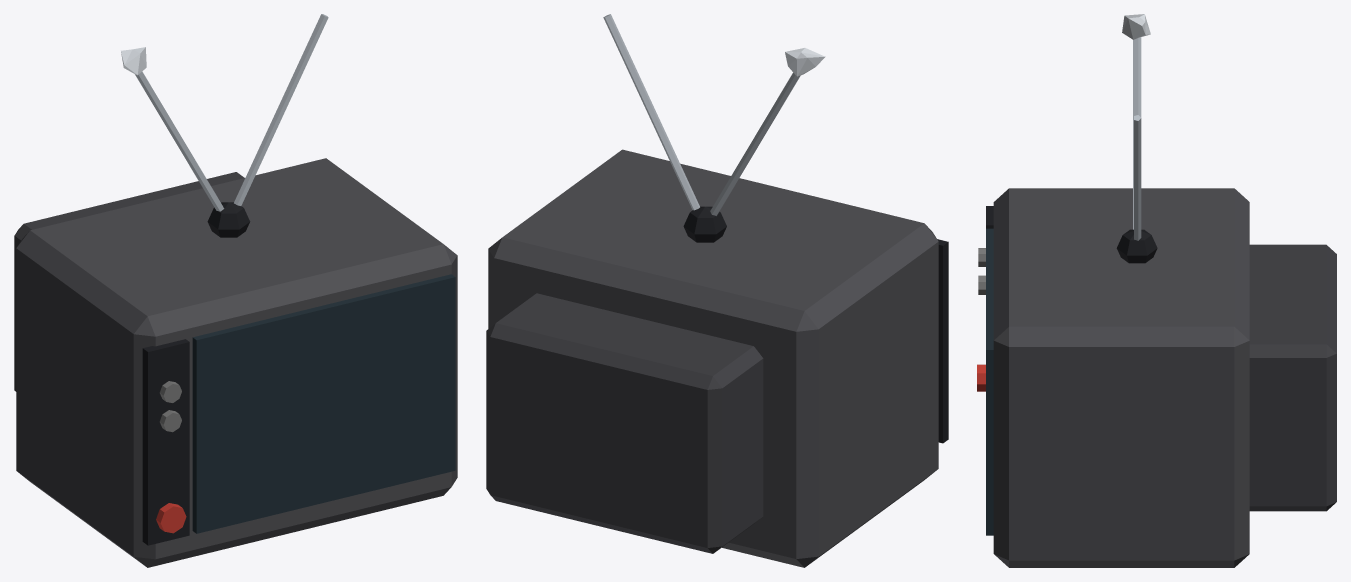
The picture shows the model from 3 angles, left to right: view 1: azimuth 30°, elevation 25°; view 2: azimuth 150°, elevation 25°; view 3: azimuth 270°, elevation 25°; orthographic projection. The views are drawn at different scales.
Parts seen in each view (by area): view 1: tv, screen, MECH_power; view 2: tv; view 3: tv, screen.
Part boxes in pixels (<box>): tv: <box>14,14,457,567</box>; screen: <box>192,274,455,533</box>; MECH_power: <box>156,503,186,533</box>; tv: <box>486,14,948,567</box>; tv: <box>978,14,1336,567</box>; screen: <box>986,228,993,535</box>.
Size of the model in its own units: 2.8 by 3.77 by 2.81.
